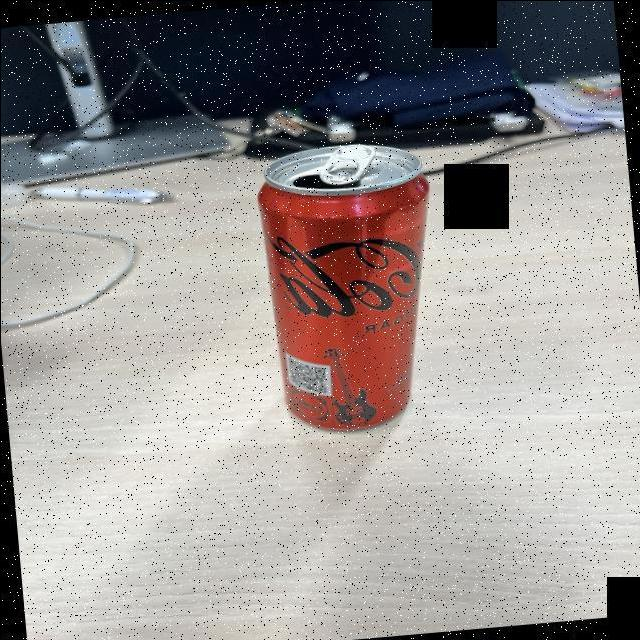can: (256, 143, 430, 434)
